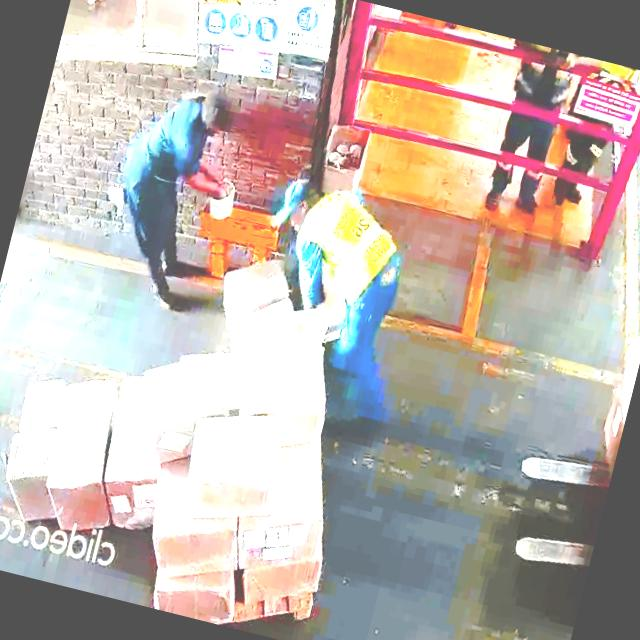Box: (170, 396, 290, 532), (41, 376, 126, 527), (234, 326, 342, 436), (136, 338, 234, 444), (148, 506, 242, 590), (235, 493, 328, 577), (0, 421, 62, 526), (239, 540, 326, 614), (154, 566, 236, 626), (11, 363, 70, 438)
